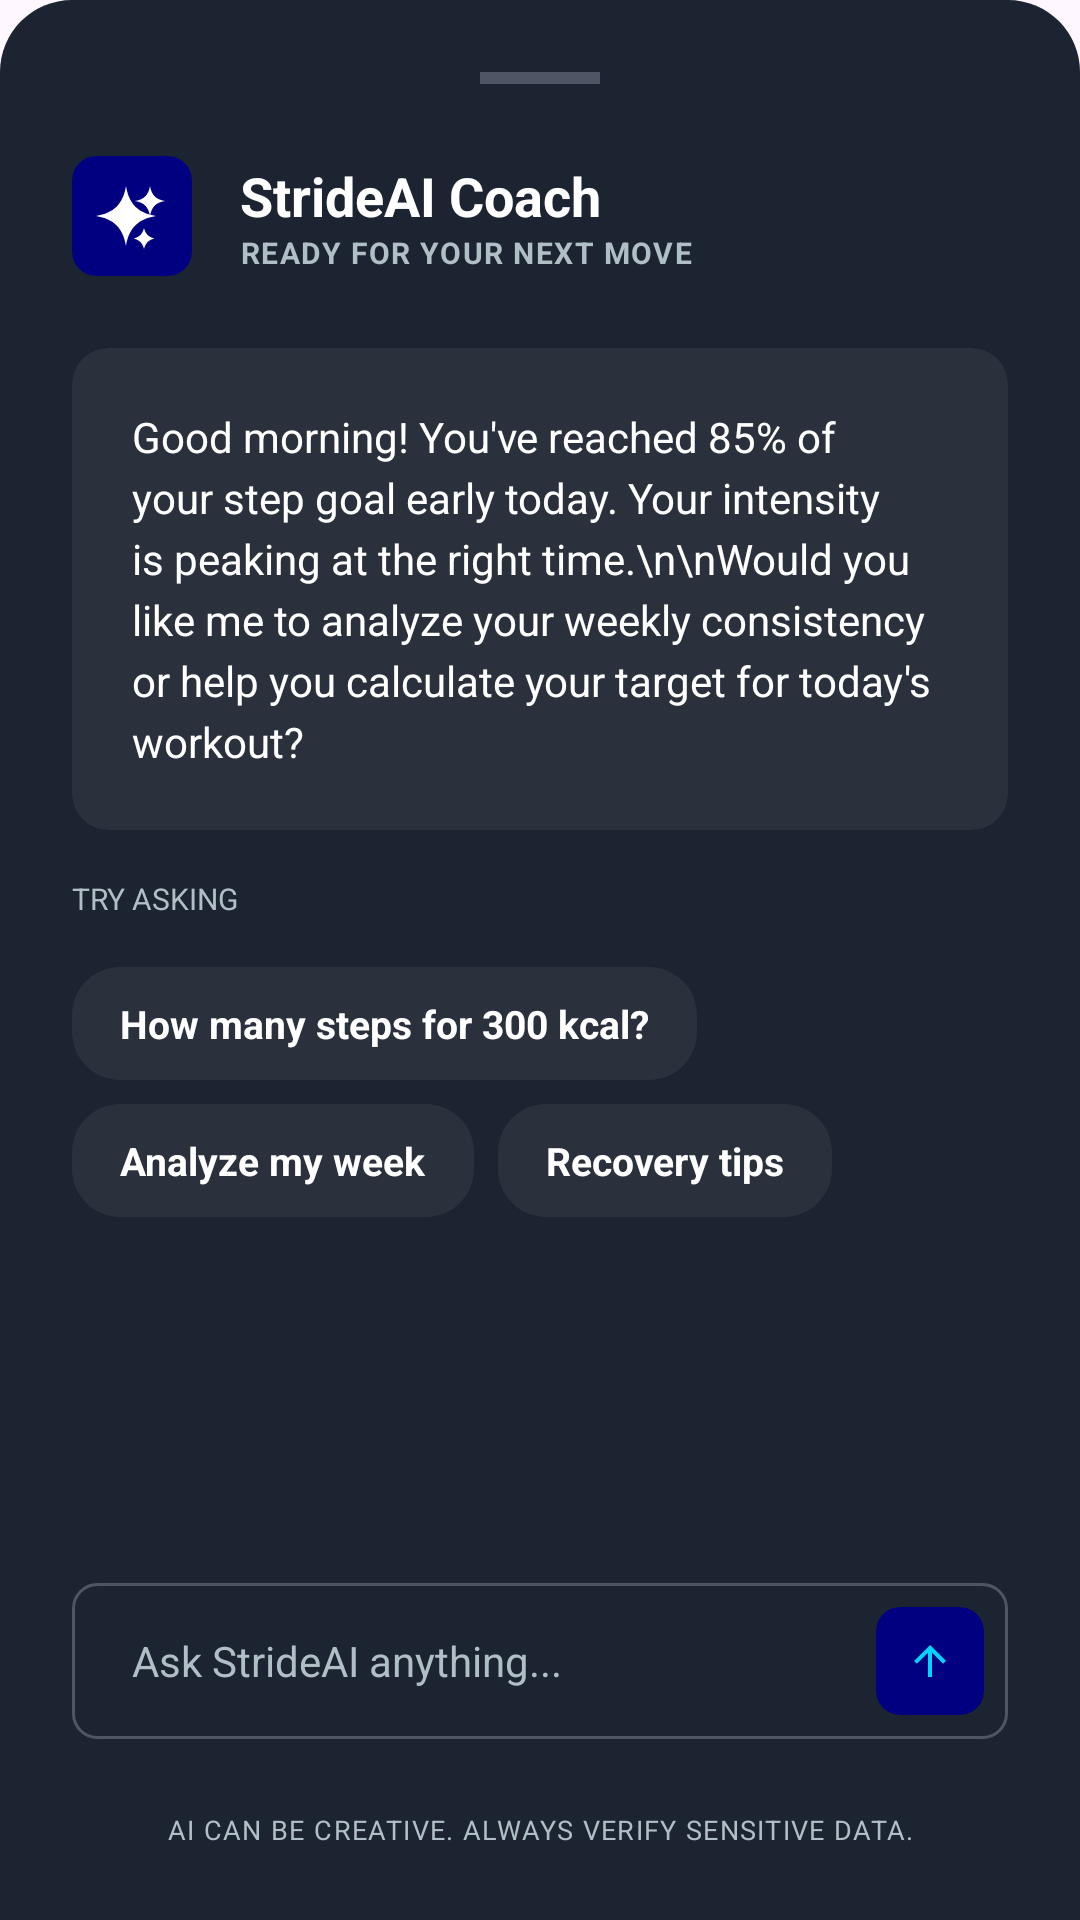

Point at icon controls on the screen. Image size 1080px x 1920px, points as (x,y).
arrow up: (930,1661)
sparkles: (130,217)
